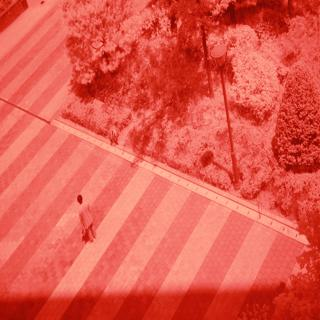person: (70, 189, 102, 245)
